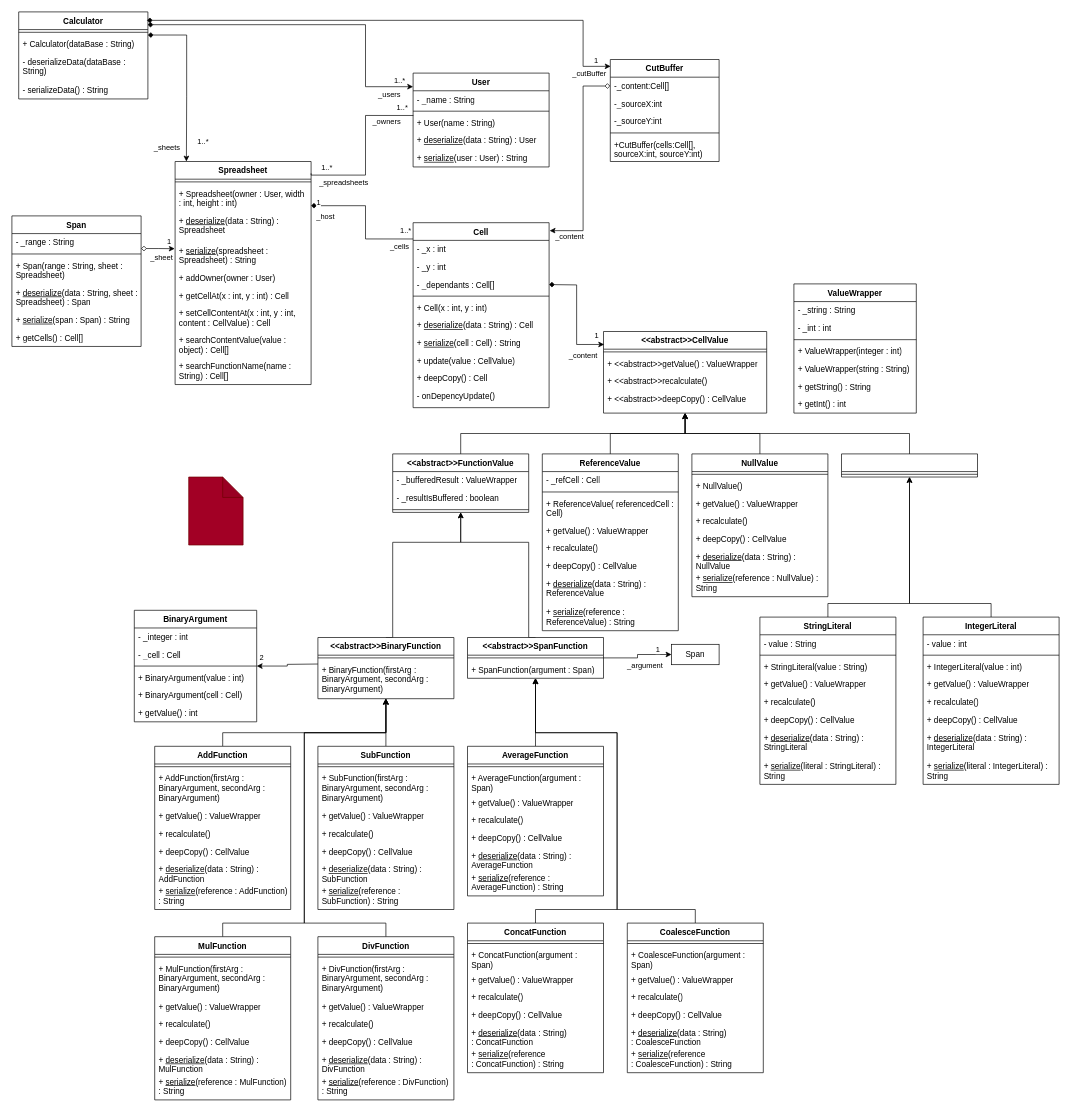
Some shapes in this 1071 by 1114 pixel diagram are drawn without their labels. Each missing label, with the centre of its shape:
"<<abstract>>LiteralValue" belongs at (x=909, y=465).
"TODO: Add parsing string to CellValue" belongs at (x=215, y=510).
